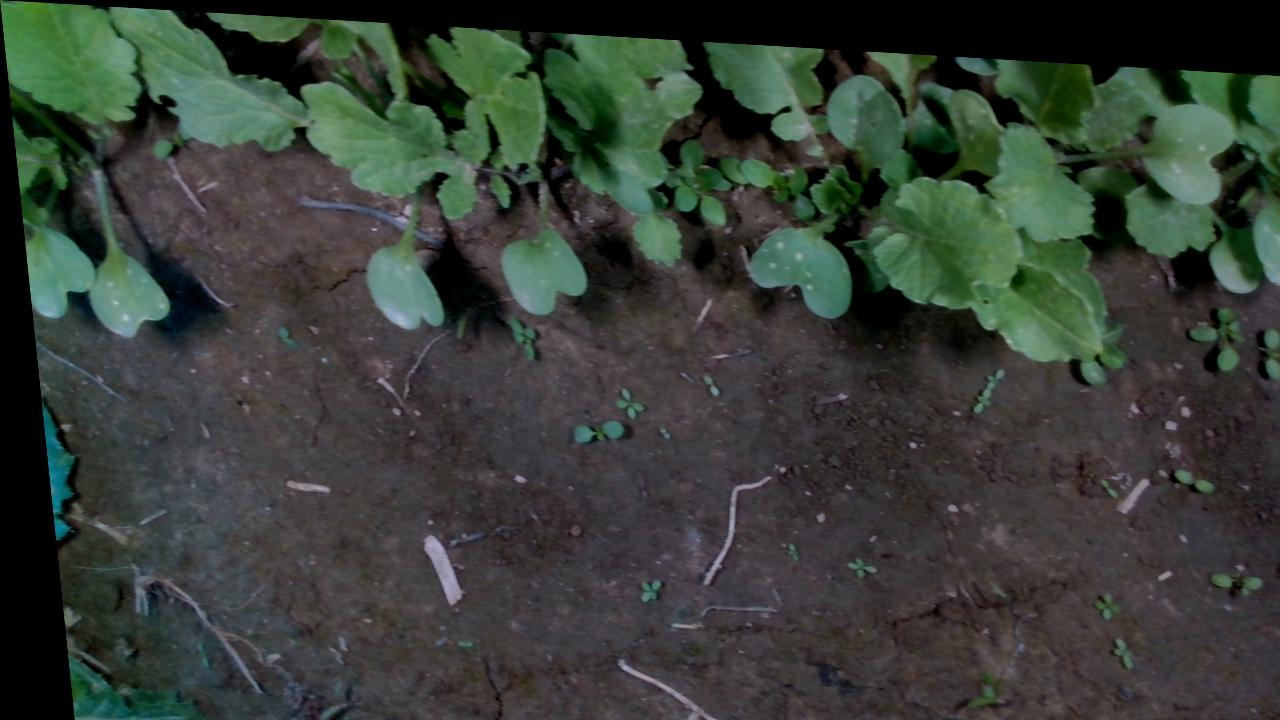weed: (562, 410, 618, 439), (500, 308, 533, 356), (1250, 311, 1279, 365), (1197, 556, 1253, 581), (604, 378, 638, 412), (1163, 453, 1207, 479), (1080, 574, 1109, 607), (833, 544, 867, 568), (1097, 622, 1121, 655), (625, 568, 650, 595), (961, 375, 985, 401), (269, 321, 292, 346), (975, 353, 998, 377), (693, 363, 712, 388), (1088, 463, 1108, 485), (772, 530, 788, 554), (608, 712, 649, 719)
